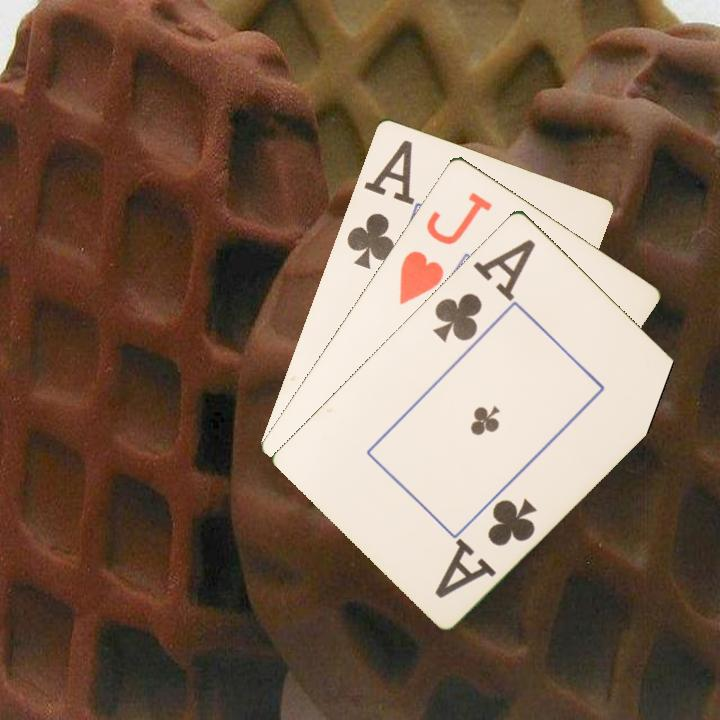Ac: (429, 234, 539, 345), (431, 494, 540, 601), (342, 135, 416, 272)
Jh: (395, 187, 495, 308)
